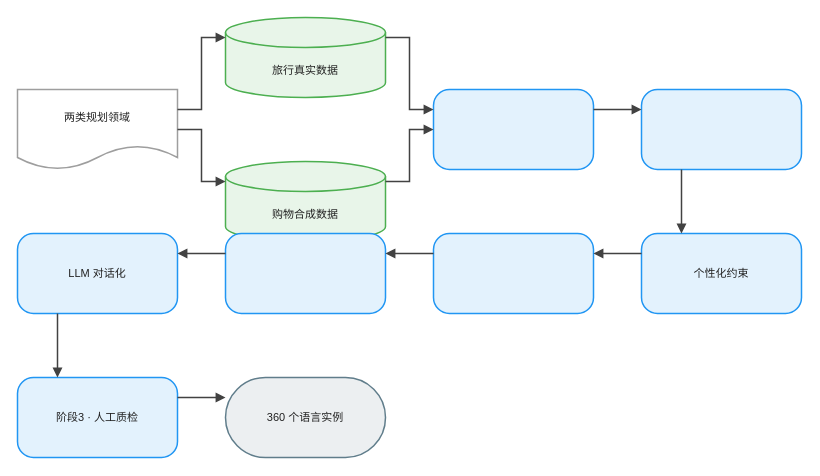
Image size: 820x476. Some labels were removed from this diagram. Here are the shapes that lost their labels. From the top down, the centre of each, then its label:
At point 513,129: "阶段1 · 数据库与工具箱".
At point 721,129: "阶段2 · 基础骨架".
At point 305,273: "候选自动调整 · 唯一最优解".
At point 513,273: "环境约束".
